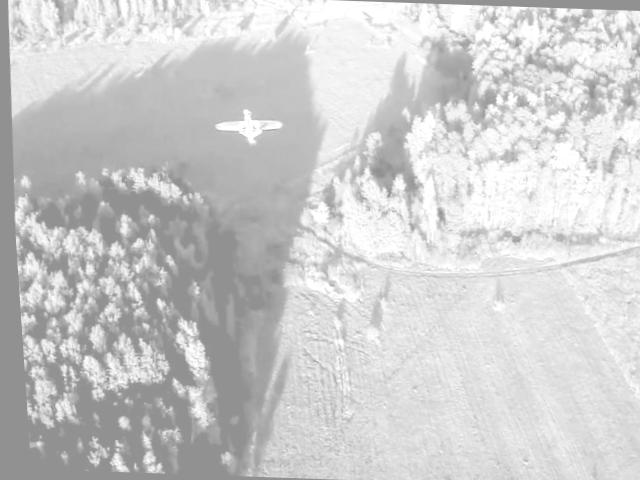hedef: (205, 100, 288, 149)
